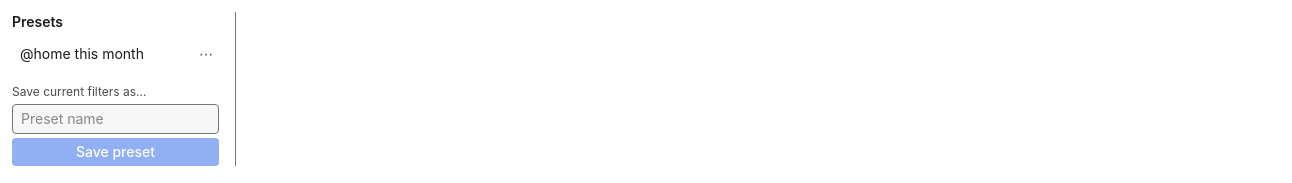
Test: AgendaPresetSidebar (Story 7.5, FR-7) › dismisses an open context menu on an outside pointer press
Click the button named "Options for @home this month" at (206, 54), box [193,40,219,68]
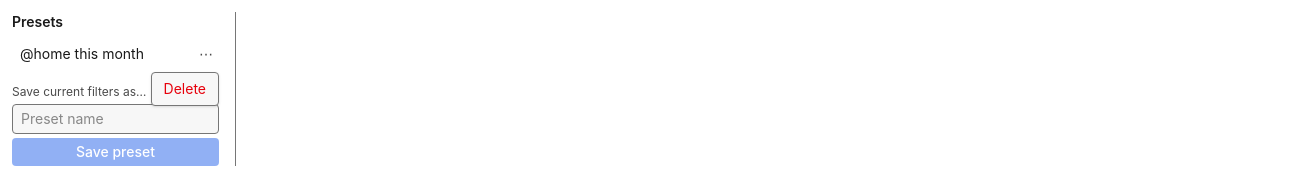
Check: the menu is shown, box [151,72,219,106]
Press the mouse on the element that starts with "Presets" at (652, 89), box [12,12,1291,166]
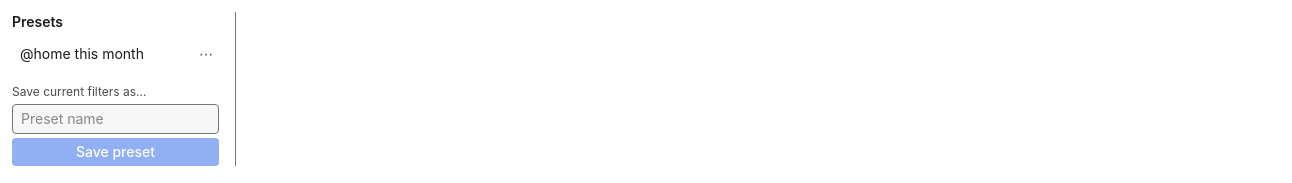
Check: the menu is gone
